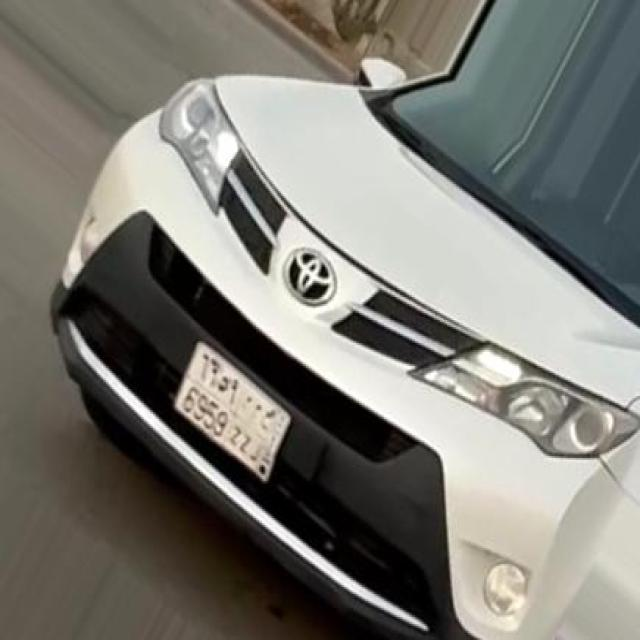Car-plate: (158, 317, 316, 501)
